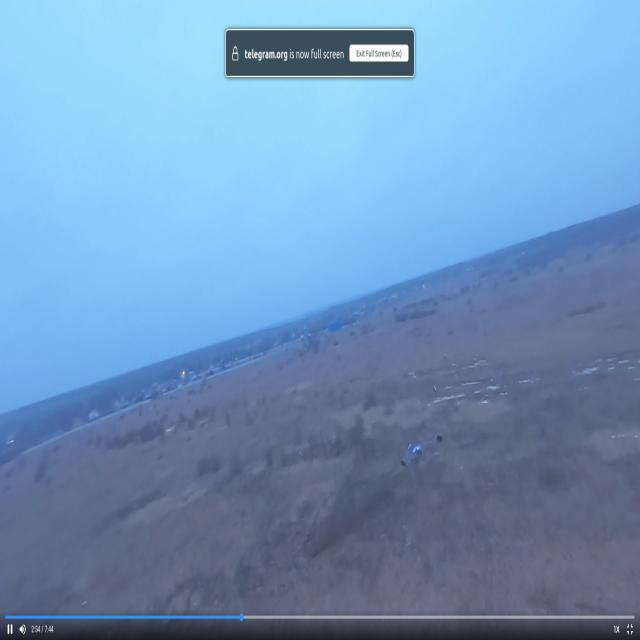planedrone: (402, 430, 445, 471)
